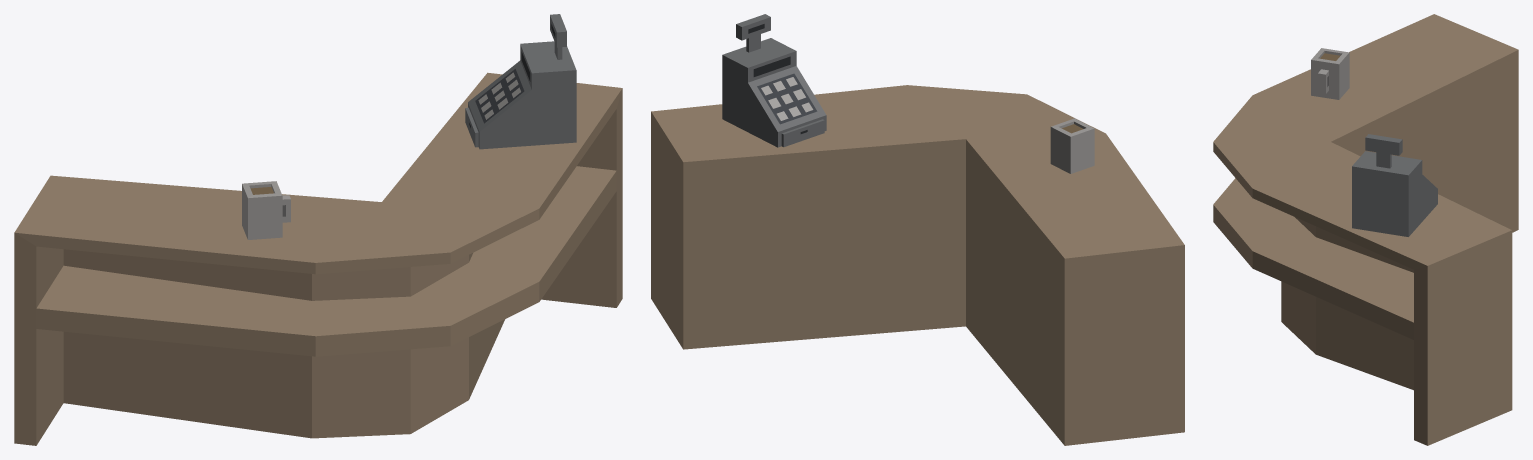
Rendered from SM_Prop_ShopInterior_Desk_02.fbx.
3 renders of one model, left to right at view 1: azimuth 30°, elevation 25°; view 2: azimuth 150°, elevation 25°; view 3: azimuth 270°, elevation 25°, orthographic. The views are drawn at different scales.
Visible parts, largest first — view 1: SM_Prop_ShopInterior_Desk_02; view 2: SM_Prop_ShopInterior_Desk_02; view 3: SM_Prop_ShopInterior_Desk_02.
Boxes of the visible parts, x1,y1,x2,y2 form: SM_Prop_ShopInterior_Desk_02: [14, 14, 622, 445]; SM_Prop_ShopInterior_Desk_02: [651, 14, 1184, 445]; SM_Prop_ShopInterior_Desk_02: [1213, 14, 1518, 445].
Bounding box in the file's own units: 249 × 125 × 128.
